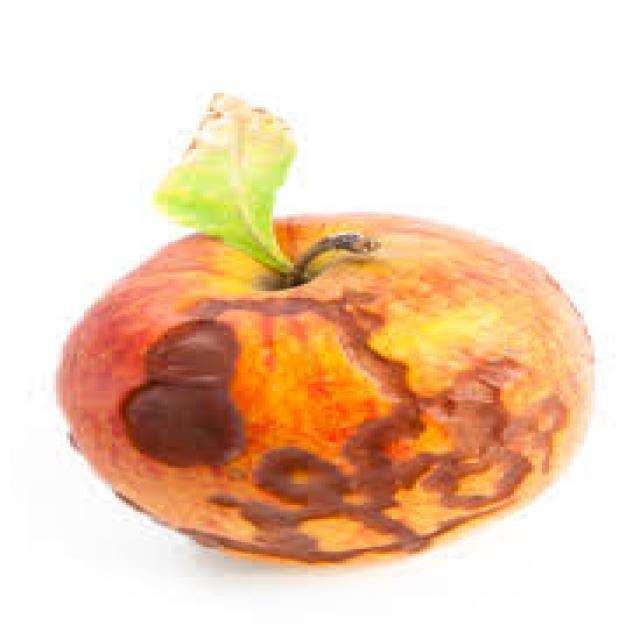organic waste: (49, 214, 588, 566), (154, 89, 301, 272)
